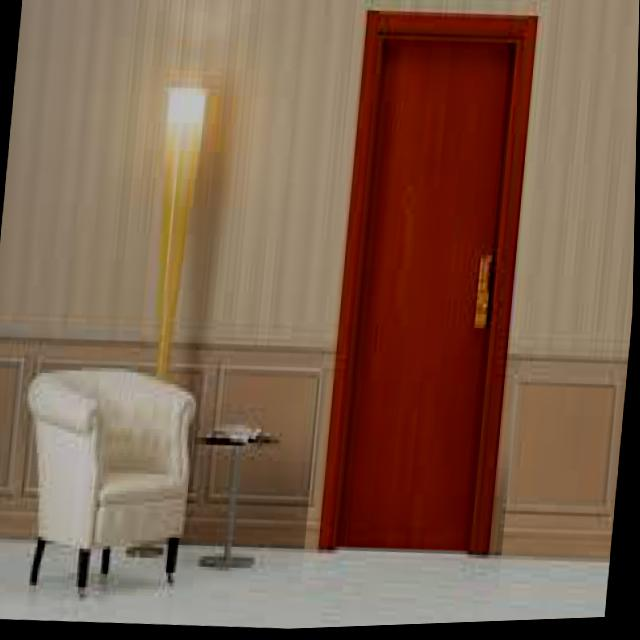close: (303, 0, 553, 600)
